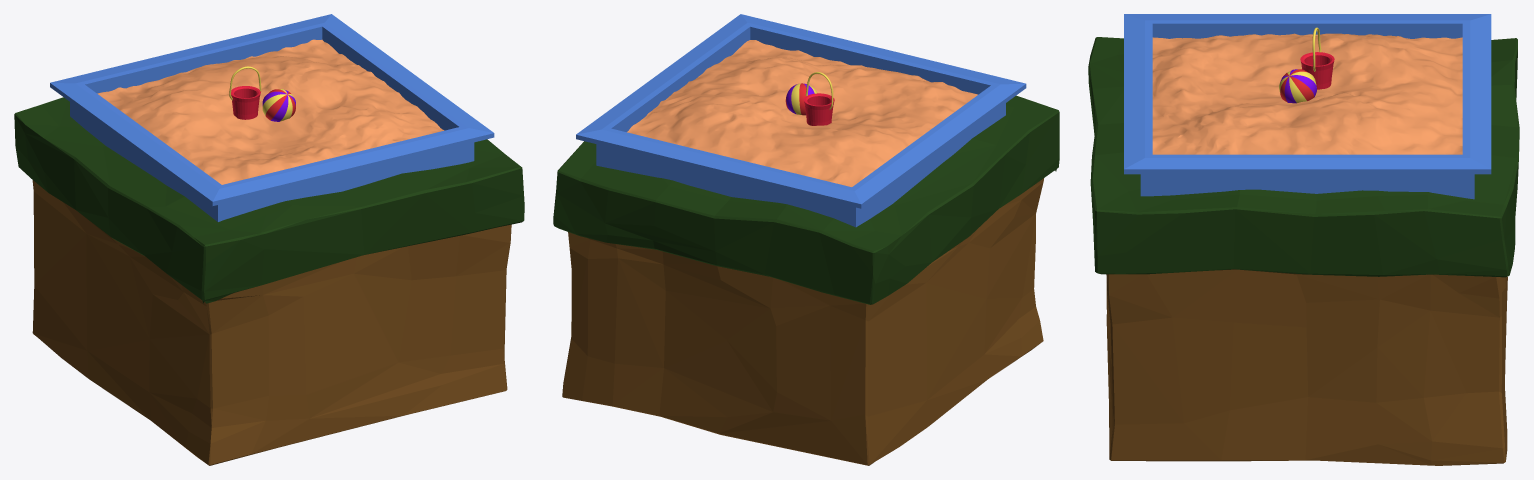
Rendered from tile_sandbox.gltf.
3 views of the same model, side by side, from view 1: azimuth 30°, elevation 25°; view 2: azimuth 150°, elevation 25°; view 3: azimuth 270°, elevation 25° (orthographic). The views are drawn at different scales.
Visible parts, largest first — view 1: hill.004, Sphere.002; view 2: hill.004, Sphere.002; view 3: hill.004, Sphere.002.
Part boxes in pixels (<box>): hill.004: <box>14,97,524,465</box>; Sphere.002: <box>50,14,494,221</box>; hill.004: <box>553,95,1059,465</box>; Sphere.002: <box>576,14,1026,227</box>; hill.004: <box>1088,37,1519,465</box>; Sphere.002: <box>1124,14,1491,199</box>.
Size of the model in its own units: 1.07 by 0.9511 by 1.09.
